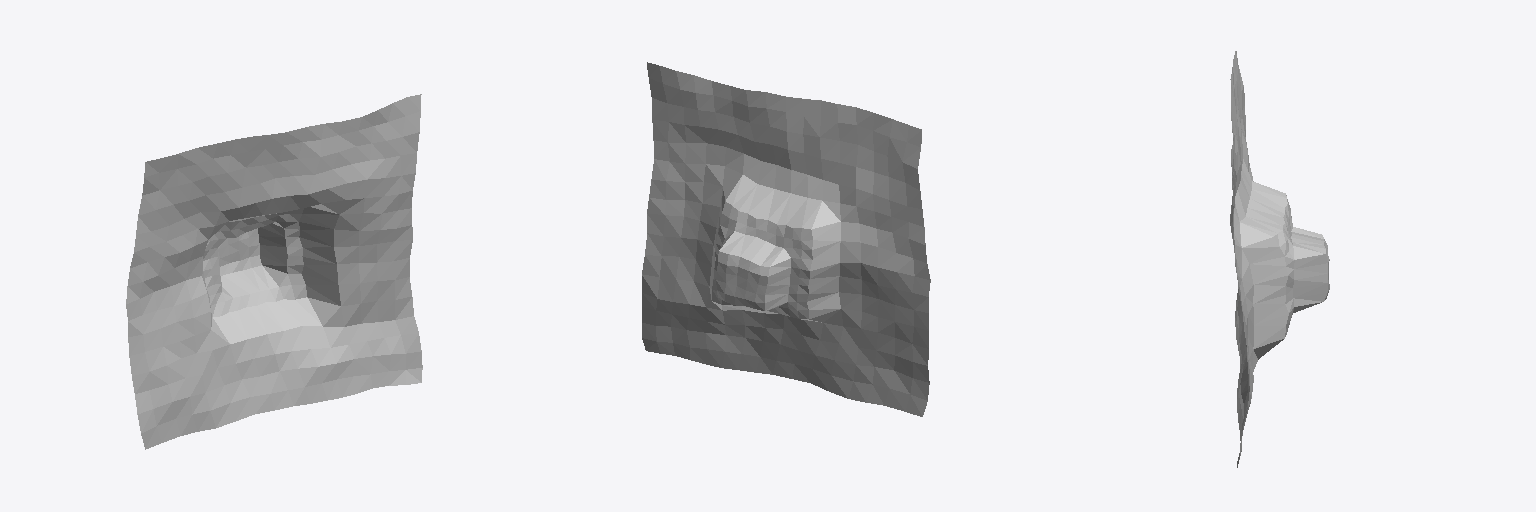
Rendered from pool5_Scene.obj.
3 views of the same model, side by side, from view 1: azimuth 30°, elevation 25°; view 2: azimuth 150°, elevation 25°; view 3: azimuth 270°, elevation 25° (orthographic).
Bounding box in the file's own units: 261 × 249 × 76.92.